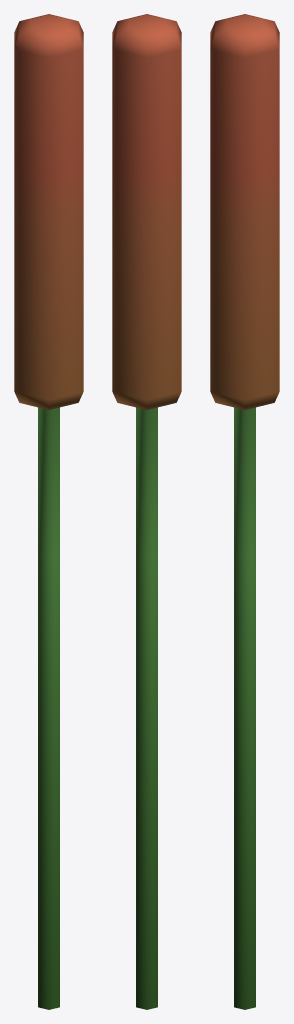
The model's file is SM_Sw_Reed_01.fbx.
3 views of the same model, side by side, from view 1: azimuth 30°, elevation 25°; view 2: azimuth 150°, elevation 25°; view 3: azimuth 330°, elevation 25° (orthographic).
Visible parts, largest first — view 1: SM_Sw_Reed_01; view 2: SM_Sw_Reed_01; view 3: SM_Sw_Reed_01.
Boxes of the visible parts, x1,y1,x2,y2 form: SM_Sw_Reed_01: (14,14,83,1009); SM_Sw_Reed_01: (112,14,181,1009); SM_Sw_Reed_01: (210,14,279,1009).
Bounding box in the file's own units: 2.99 × 40.44 × 2.59.
